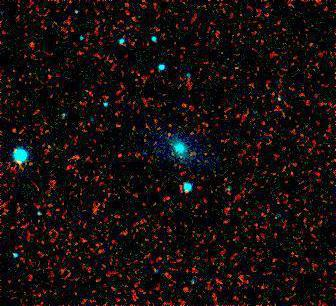star: (17, 29, 47, 59)
